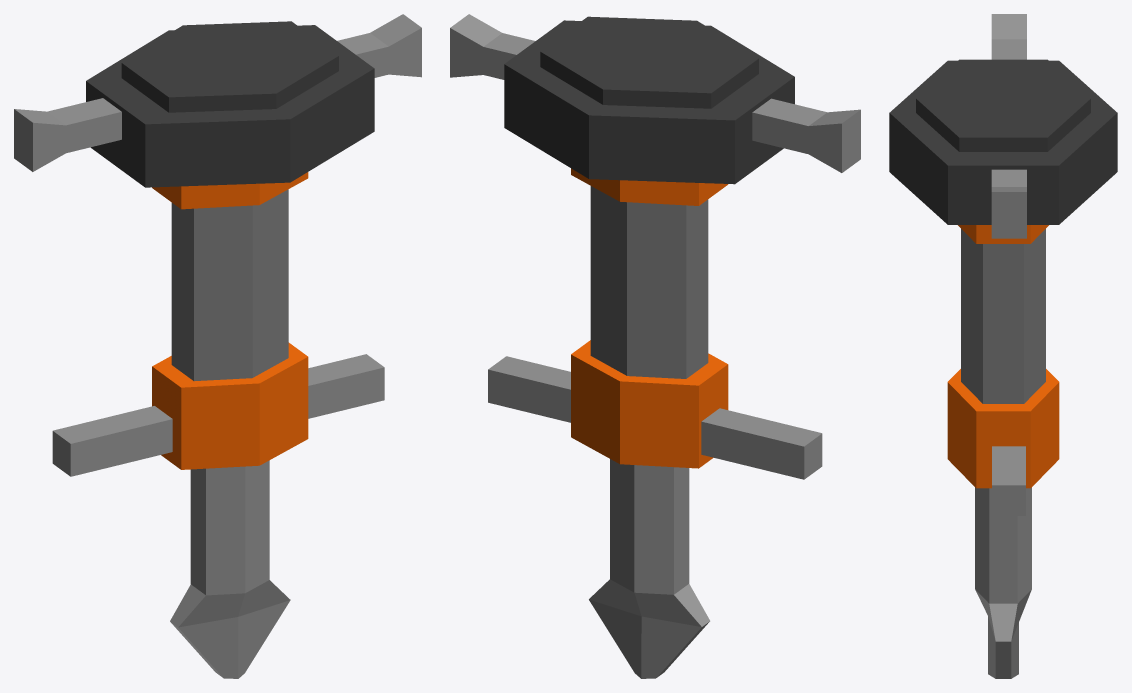
File: Jackhammer.fbx
3 renders of one model, left to right at view 1: azimuth 30°, elevation 25°; view 2: azimuth 150°, elevation 25°; view 3: azimuth 270°, elevation 25°, orthographic. The views are drawn at different scales.
Visible parts, largest first — view 1: PowerJack; view 2: PowerJack; view 3: PowerJack.
Boxes of the visible parts, x1,y1,x2,y2 form: PowerJack: [14, 14, 421, 678]; PowerJack: [450, 14, 860, 678]; PowerJack: [889, 14, 1117, 678].
Size of the model in its own units: 84.31 by 127 by 45.61.
